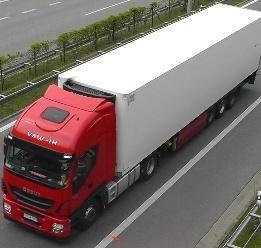Truck: (0, 3, 261, 239)
